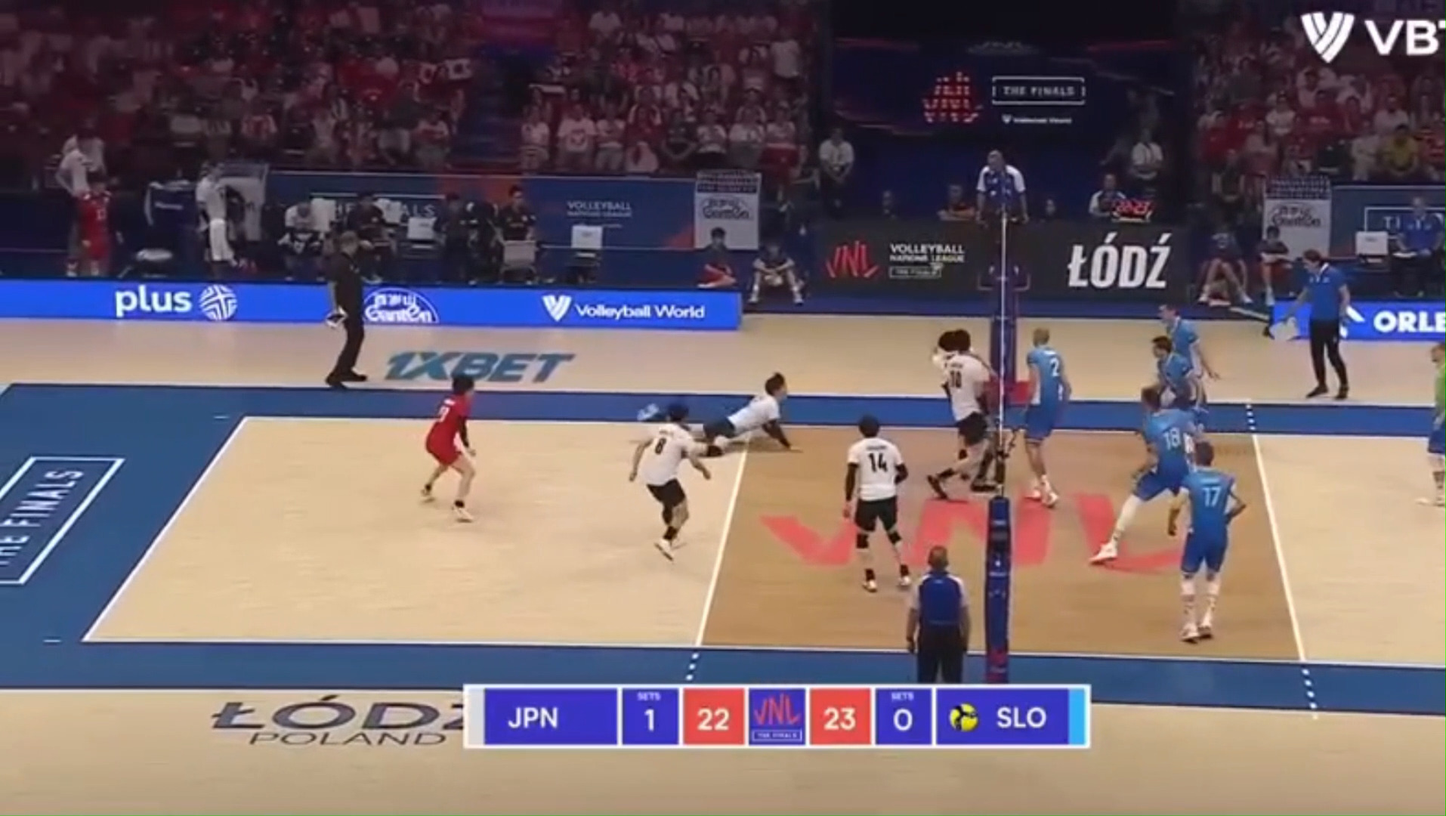ball: (929, 261, 944, 277)
player: (1092, 386, 1200, 564), (1167, 440, 1245, 643), (1023, 327, 1070, 507), (1160, 304, 1217, 378), (1152, 335, 1201, 420), (1425, 342, 1445, 506)
player 1: (629, 403, 711, 559), (932, 329, 1007, 491), (844, 416, 912, 592), (928, 352, 992, 497), (699, 372, 793, 456), (422, 375, 475, 521)
referee: (1287, 249, 1349, 399), (904, 546, 969, 684), (975, 150, 1030, 293), (325, 230, 367, 389)
